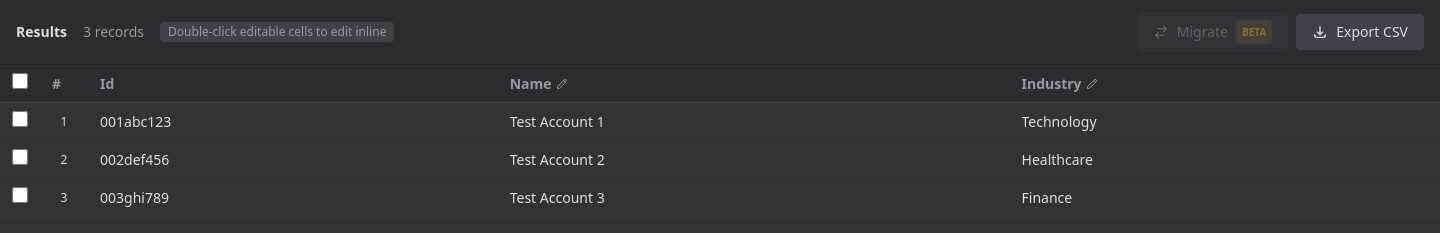
ResultsTable › inline editing › should cancel editing when Escape is pressed
Note: Start editing
Double-click the text "Test Account 1": (557, 121) [510, 112, 605, 130]
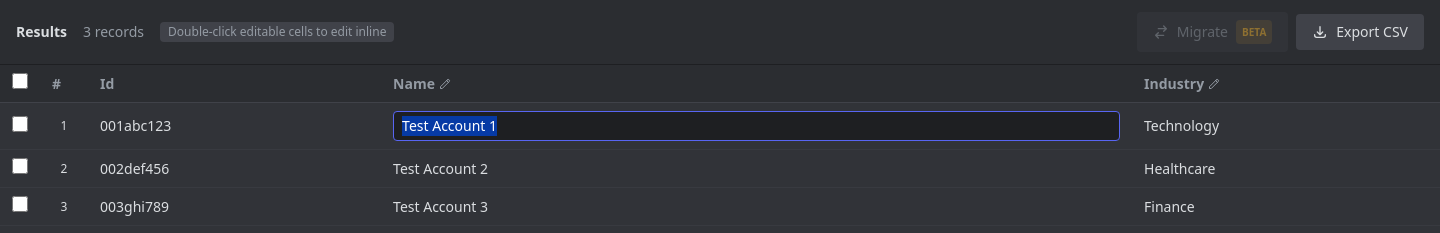
Replace the text in the field with "Modified Name": (757, 126) [393, 111, 1120, 141]
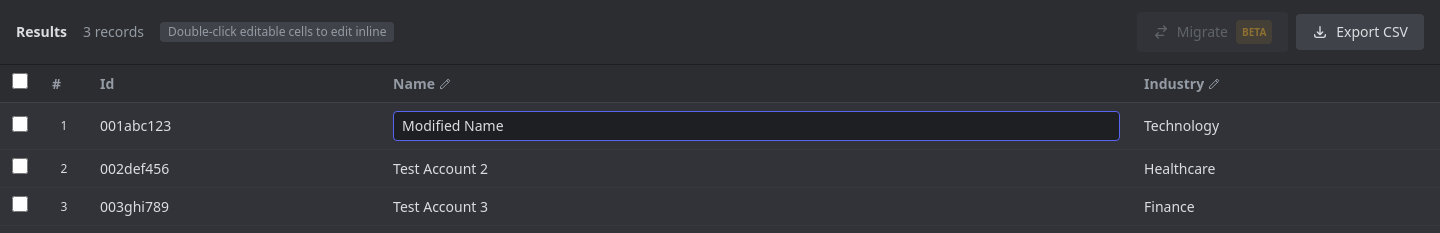
Note: Press Escape
Press Escape
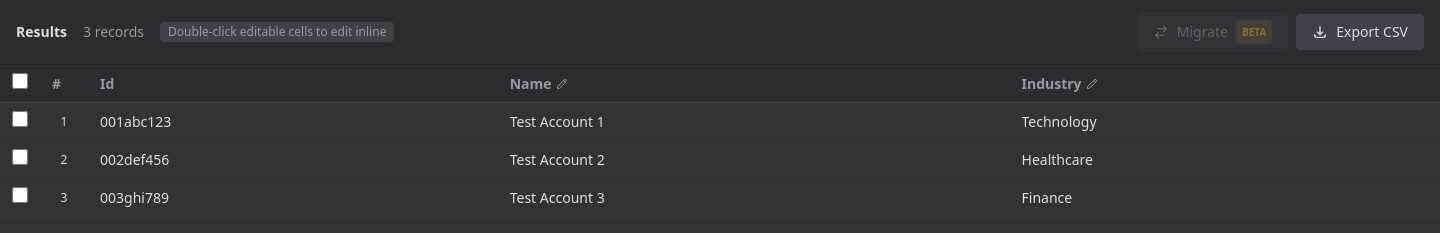
Check: the text "Test Account 1" is shown, box [510, 112, 605, 130]
Check: the field is gone
